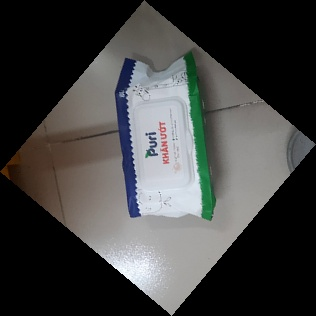Puri Trang: (113, 48, 220, 220)
